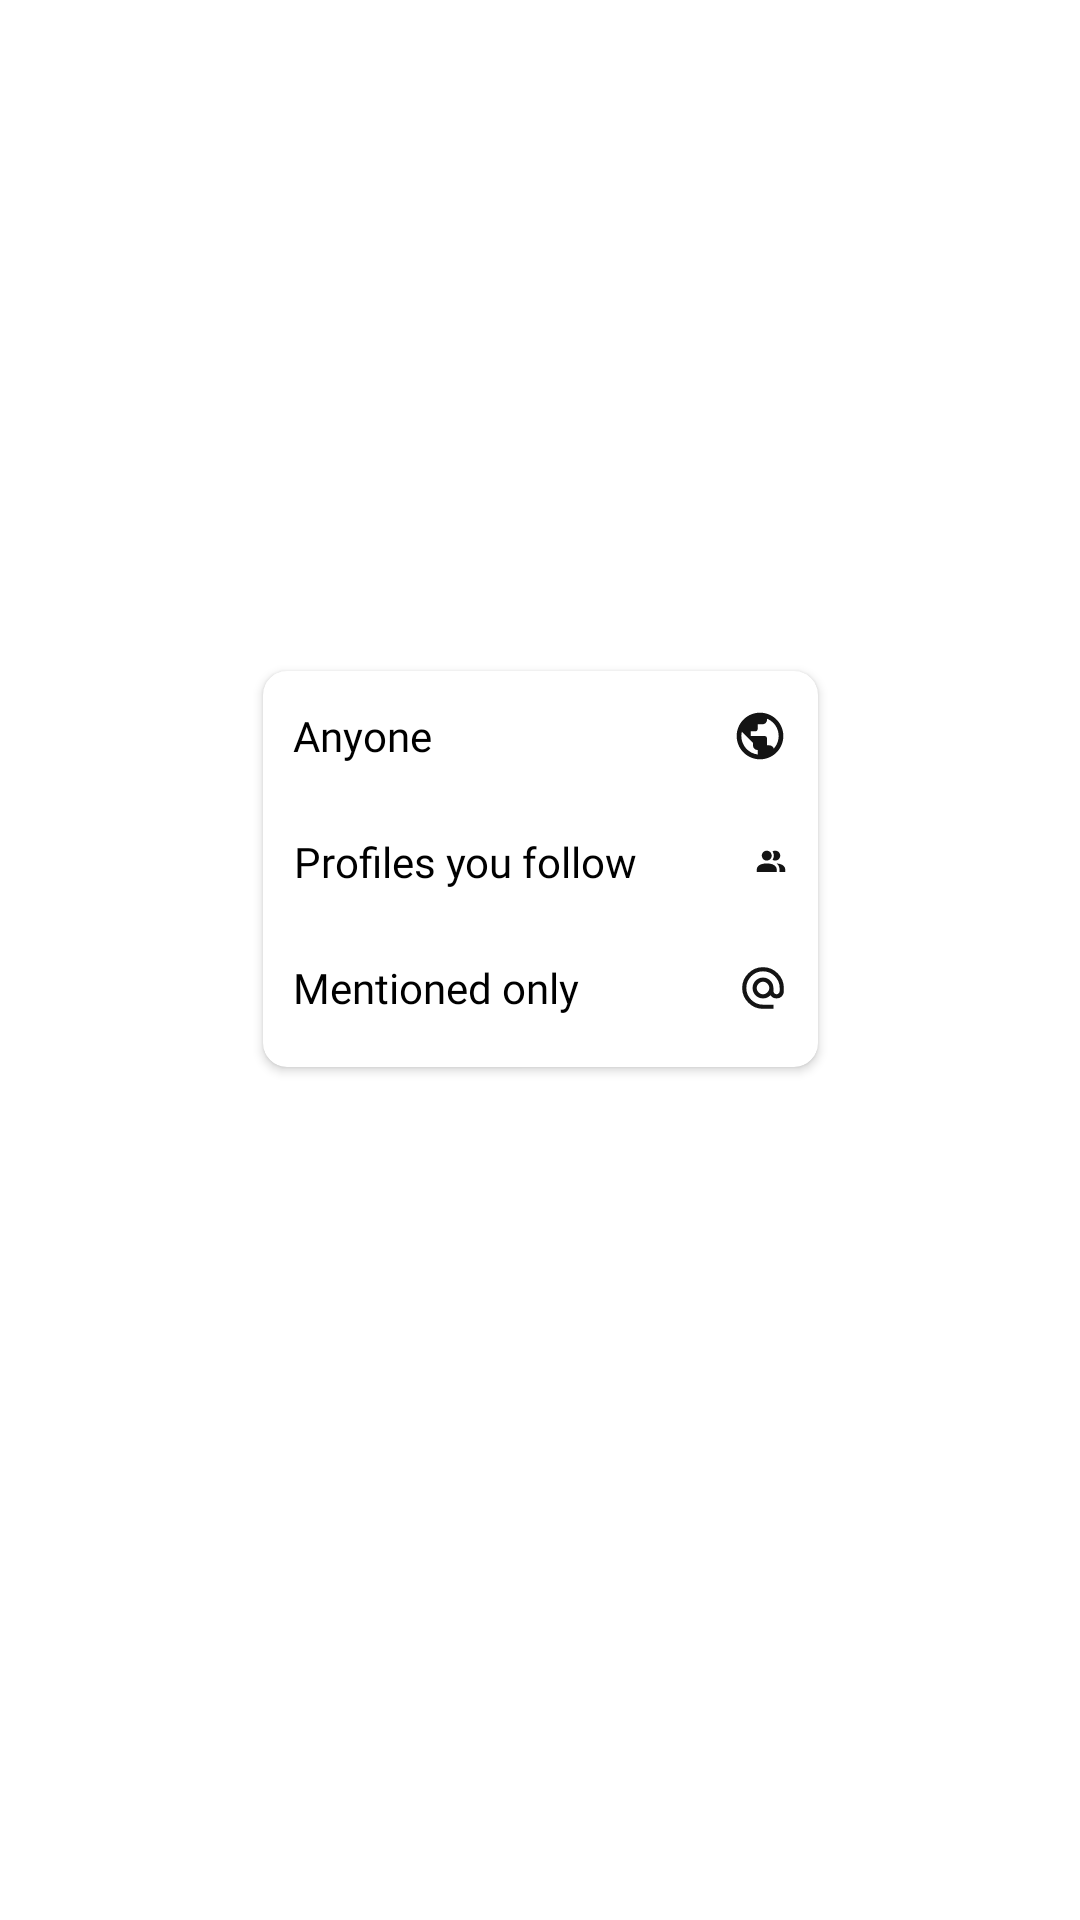

Where icons sit on this 1080×1920 app screen, as [x1, y1, x2, y2]:
account users: [756, 850, 786, 872]
earth: [736, 712, 784, 760]
